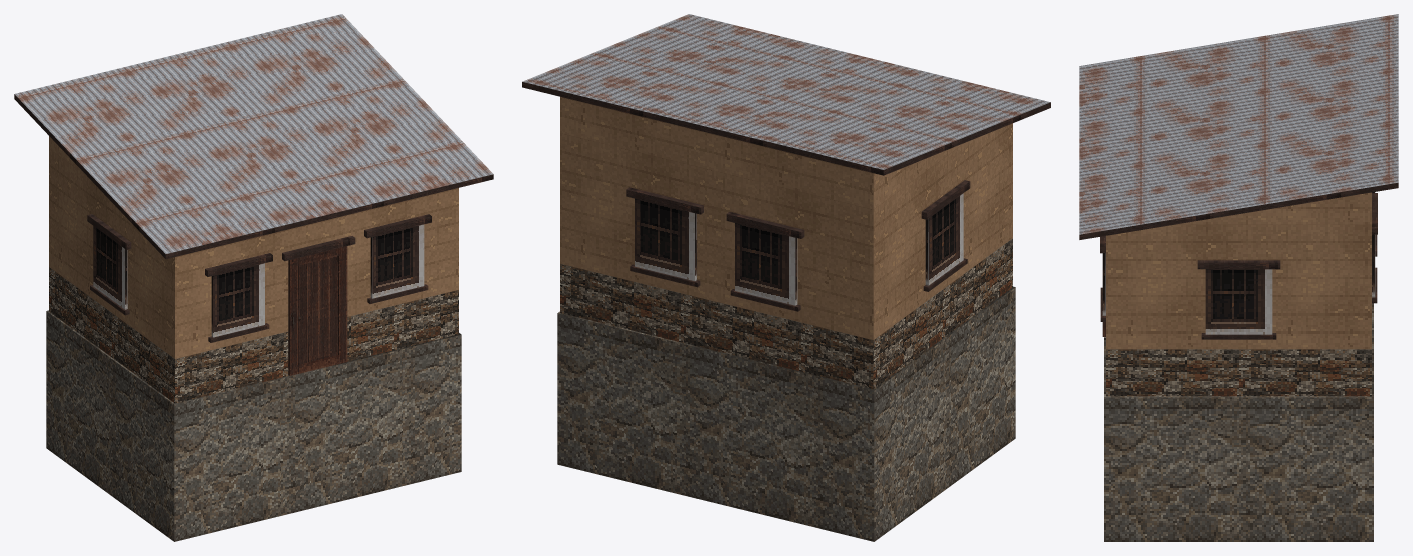
Rendered from 04_quincha_calamina_un_agua.glb.
The picture shows the model from 3 angles, left to right: view 1: azimuth 30°, elevation 25°; view 2: azimuth 150°, elevation 25°; view 3: azimuth 270°, elevation 25°; orthographic projection. The views are drawn at different scales.
Parts seen in each view (by area): view 1: 04_quincha_calamina_un_agua; view 2: 04_quincha_calamina_un_agua; view 3: 04_quincha_calamina_un_agua.
Boxes of the visible parts, x1=… form: 04_quincha_calamina_un_agua: x1=14, y1=14, x2=493, y2=541; 04_quincha_calamina_un_agua: x1=522, y1=14, x2=1050, y2=541; 04_quincha_calamina_un_agua: x1=1079, y1=14, x2=1398, y2=541.
Bounding box in the file's own units: 6 × 6.13 × 4.8.
7 materials, 7 textured.
